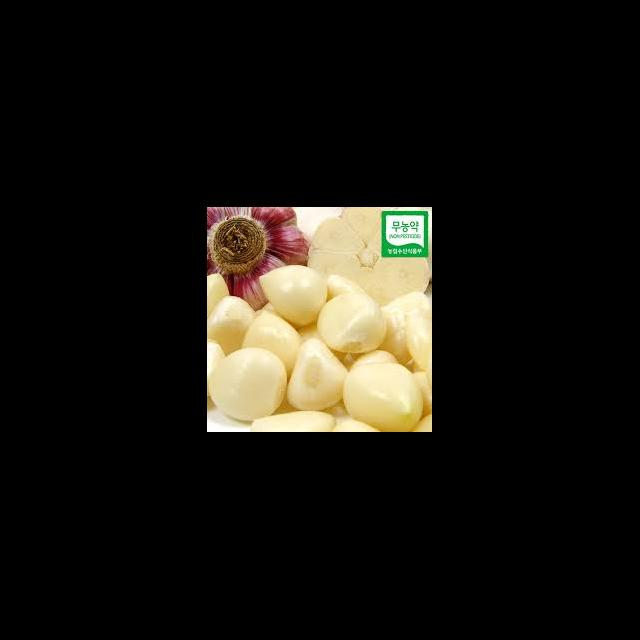garlic: (258, 272, 422, 426)
